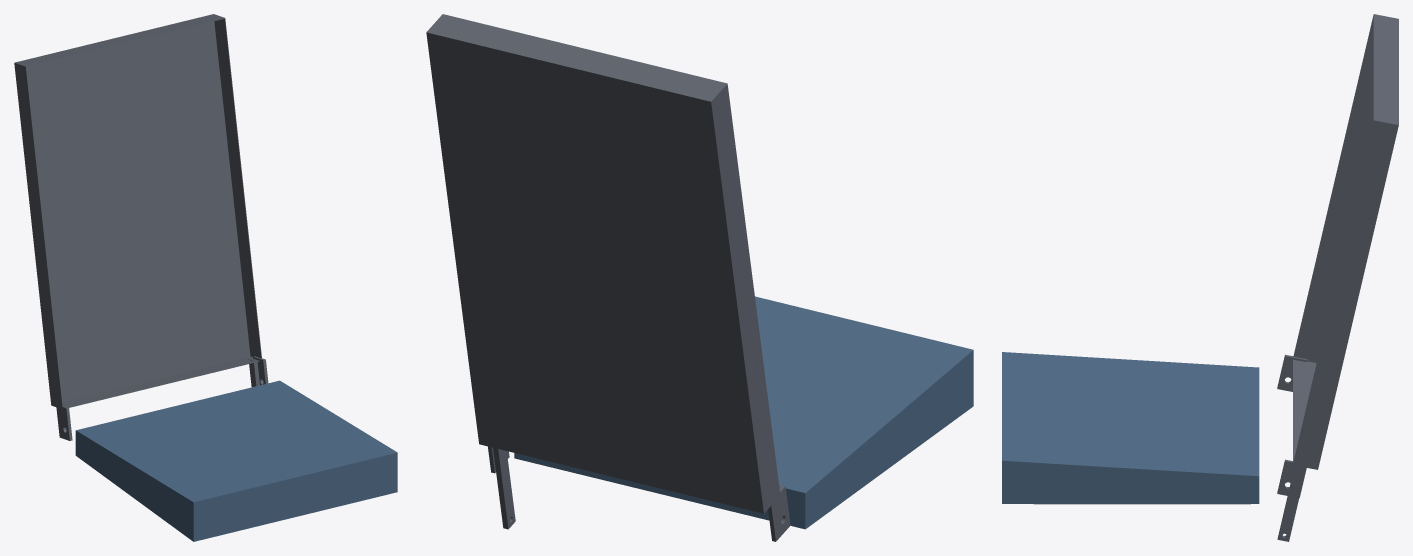
The model's file is step_02.glb.
The picture shows the model from 3 angles, left to right: view 1: azimuth 30°, elevation 25°; view 2: azimuth 150°, elevation 25°; view 3: azimuth 270°, elevation 25°; orthographic projection. The views are drawn at different scales.
Parts seen in each view (by area): view 1: part__back shell, part__cushion cover; view 2: part__back shell, part__cushion cover; view 3: part__cushion cover, part__back shell.
Boxes of the visible parts, left/top/right/bottom form: part__back shell: left=14, top=14, right=268, bottom=440; part__cushion cover: left=75, top=380, right=397, bottom=541; part__back shell: left=426, top=14, right=790, bottom=541; part__cushion cover: left=514, top=296, right=973, bottom=529; part__cushion cover: left=1002, top=352, right=1259, bottom=503; part__back shell: left=1277, top=14, right=1398, bottom=541.
Bounding box in the file's own units: 450 × 817 × 694.
